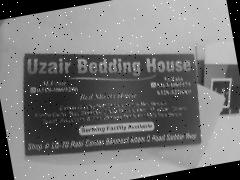paper: (4, 20, 206, 173)
